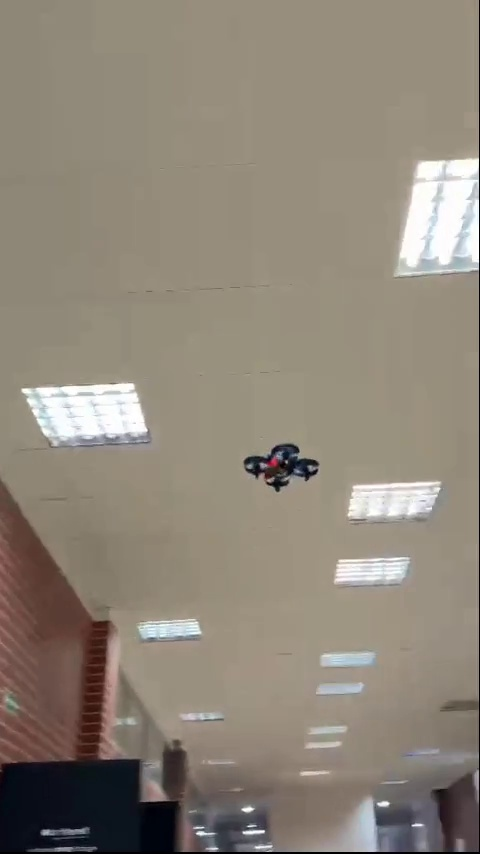drone: (248, 440, 321, 493)
